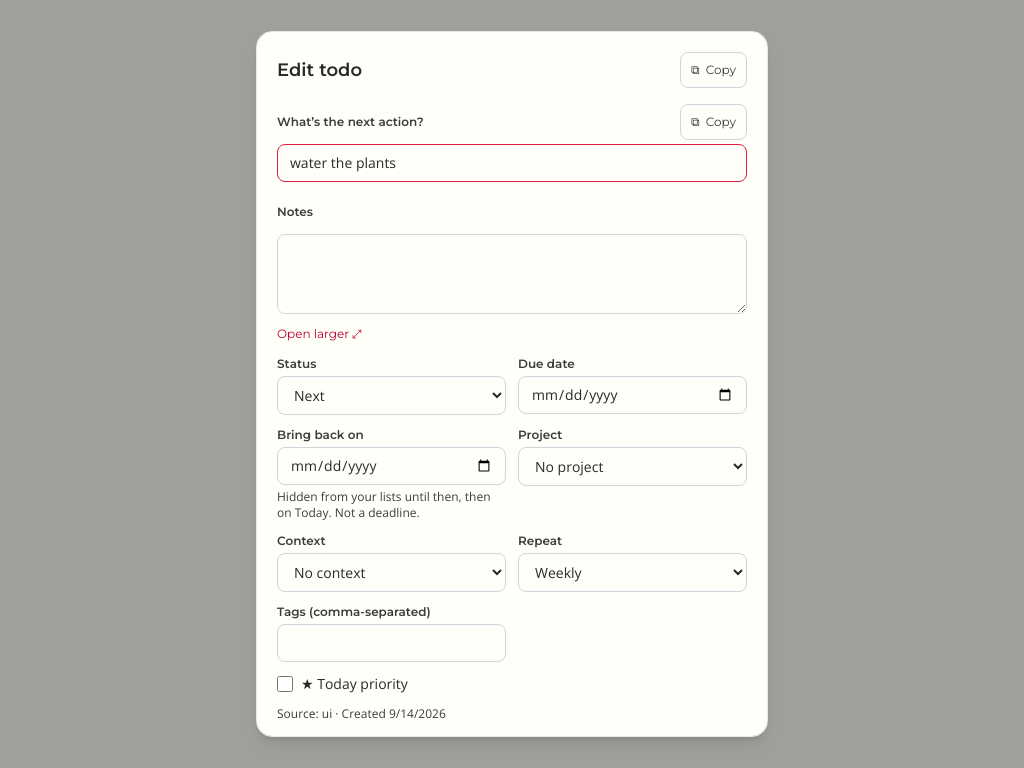
Test: settle-stage fixes › records the repeat rule the completion actually ran under, not the pre-edit one
Select "Weekly" in the dropdown with id "gtd-repeat" at coordinates (632, 572), box [518,553,747,592]
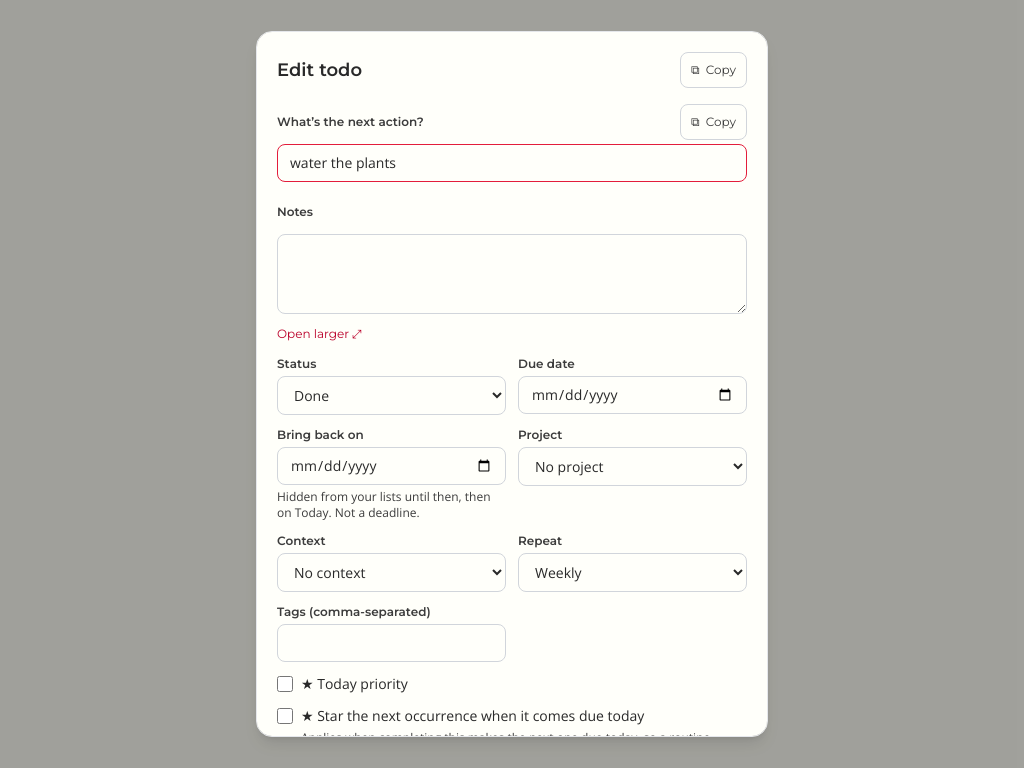
Select "Done" in the dropdown with id "gtd-status" at coordinates (392, 395), box [277,376,506,415]
(page scrolled)
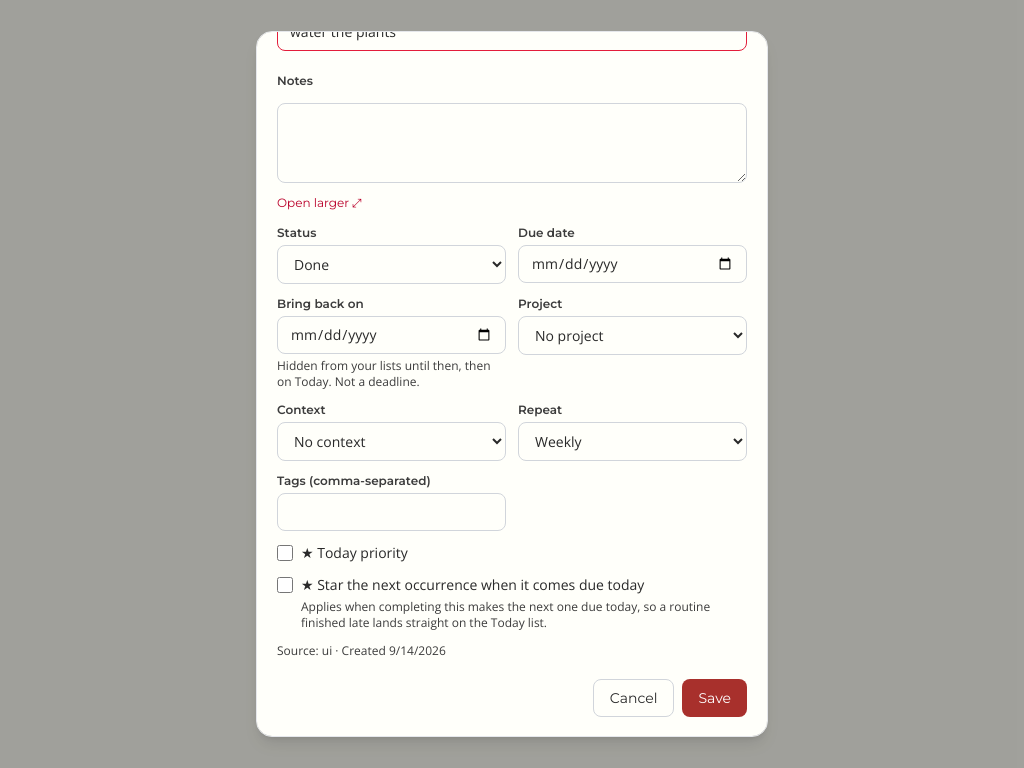
Click the button "Save" at coordinates (715, 698), box [682,679,747,717]
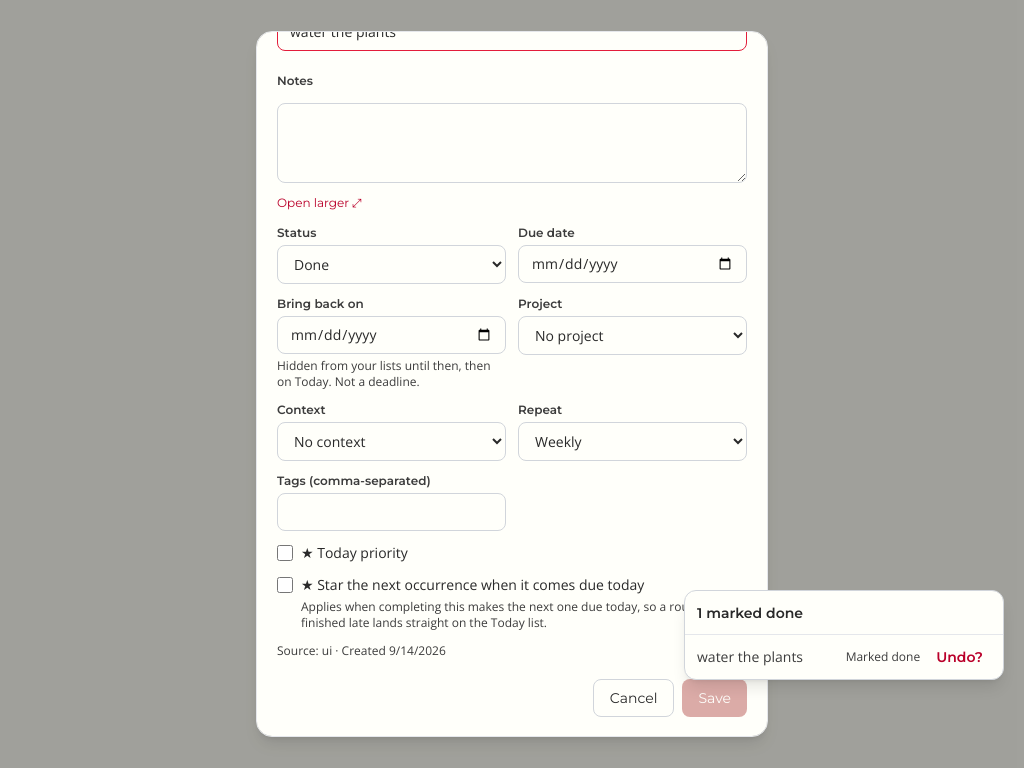
Click the button "Undo?" at coordinates (960, 657), box [928,643,991,671]
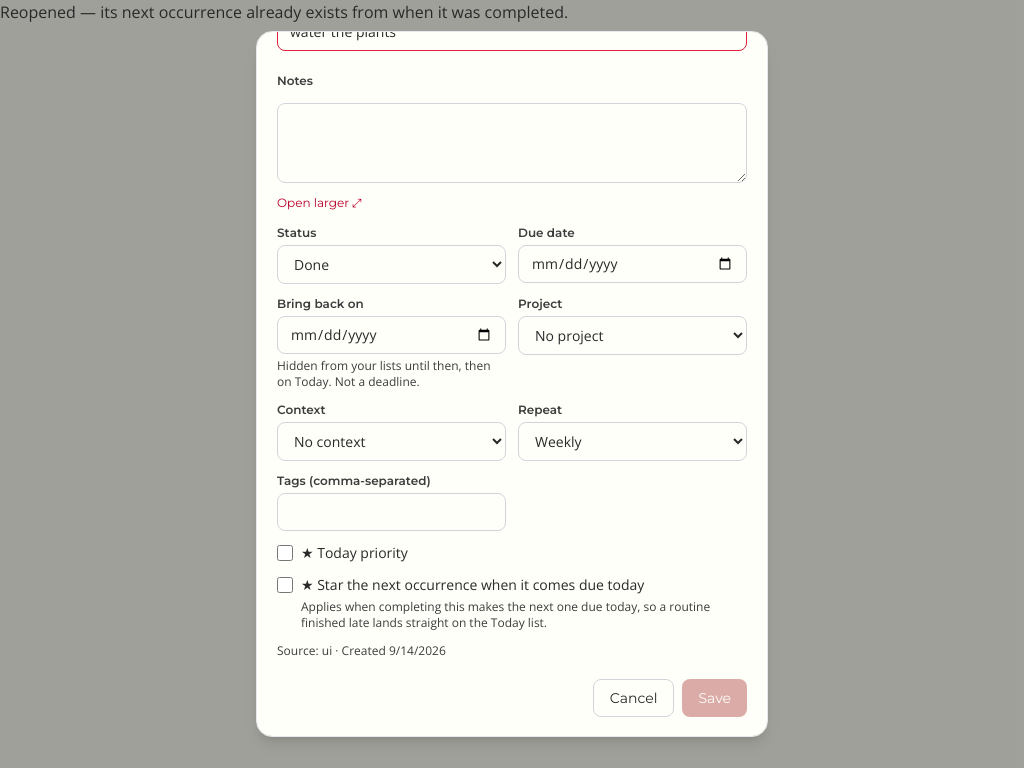
Result: the text "next occurrence already exists" is shown at [0,1,568,23]
